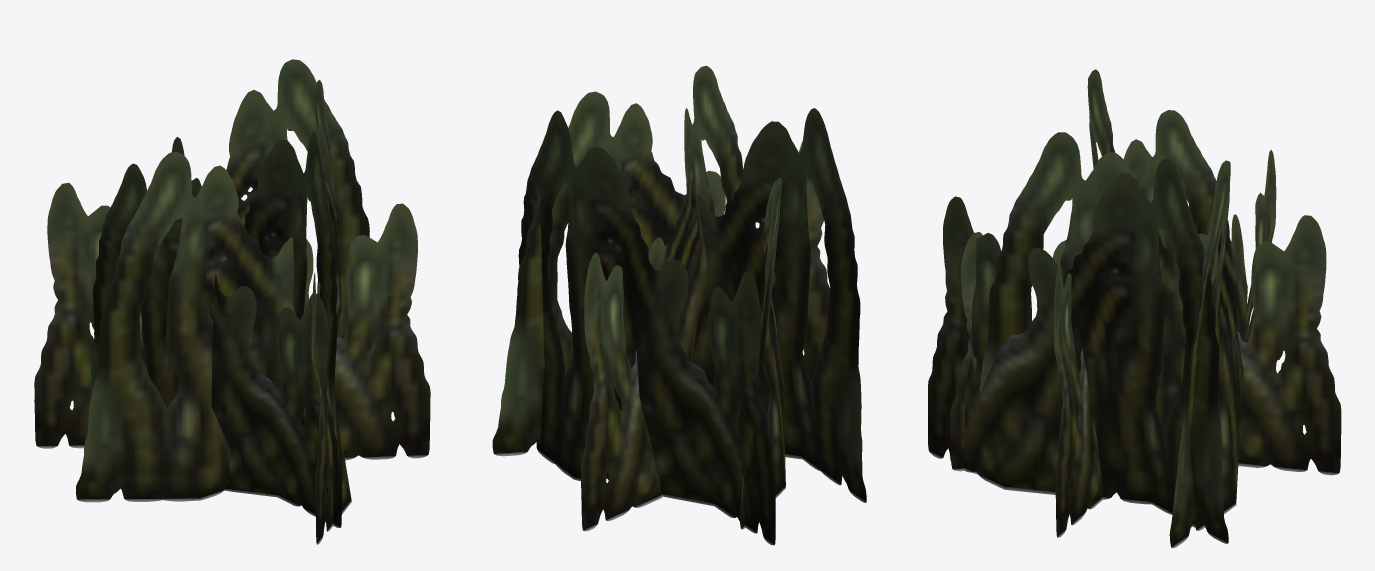
The model's file is EelVines.fbx.
The picture shows the model from 3 angles, left to right: view 1: azimuth 30°, elevation 25°; view 2: azimuth 150°, elevation 25°; view 3: azimuth 270°, elevation 25°; orthographic projection. The views are drawn at different scales.
Parts seen in each view (by area): view 1: EelVines; view 2: EelVines; view 3: EelVines.
Boxes of the visible parts, box(x1,y1,x2,y2) form: EelVines: box(34, 59, 430, 544); EelVines: box(492, 65, 866, 545); EelVines: box(928, 69, 1341, 548).
Bounding box in the file's own units: 410 × 400 × 438.
Materials: 1 (1 with a texture image).
